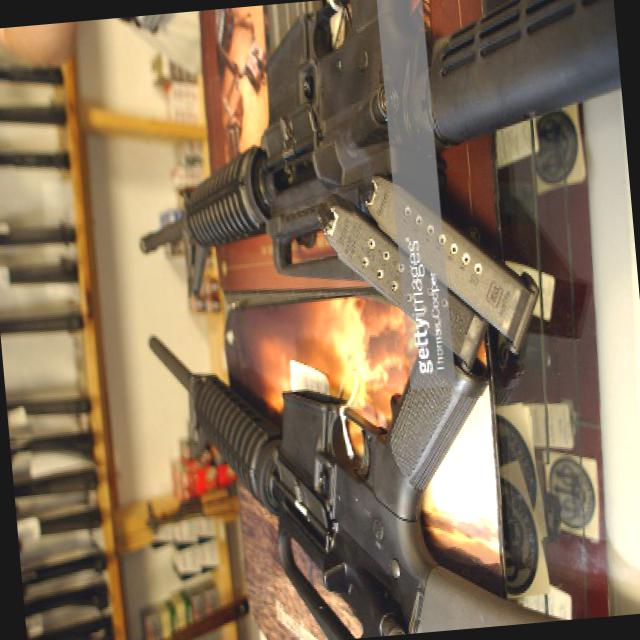long weapon: (88, 0, 635, 303)
